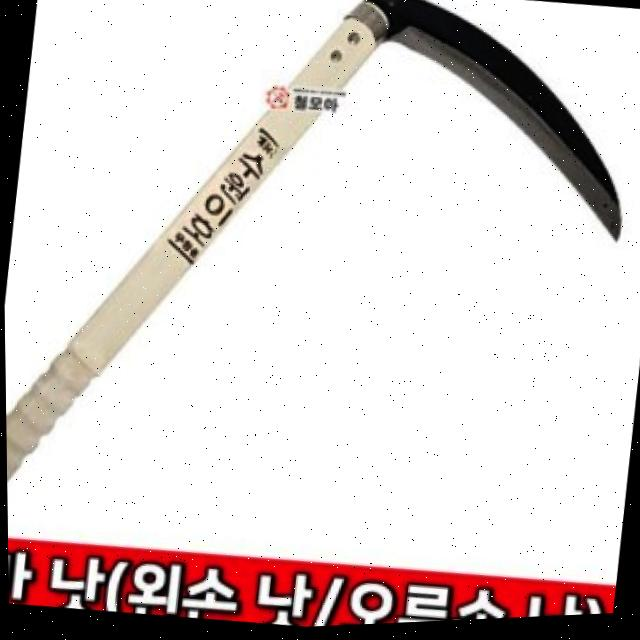sickle: (0, 0, 623, 604)
